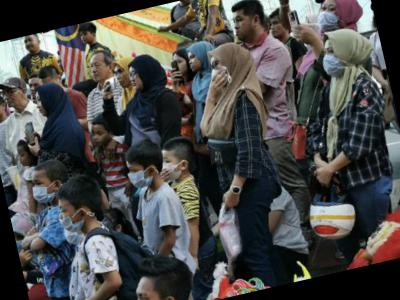mask_weared_incorrect: (56, 200, 86, 236)
with_mask: (319, 43, 346, 81), (28, 174, 57, 207), (314, 0, 341, 31), (125, 161, 150, 191), (158, 153, 181, 182), (209, 57, 227, 88)
without_mask: (232, 11, 255, 42), (127, 285, 166, 300), (88, 58, 109, 82), (89, 124, 110, 148), (113, 66, 130, 90), (127, 67, 144, 91), (269, 17, 287, 39), (14, 148, 31, 168), (172, 55, 188, 75), (27, 80, 43, 99), (186, 52, 201, 72), (34, 94, 47, 117), (78, 29, 93, 46), (79, 31, 95, 46)
